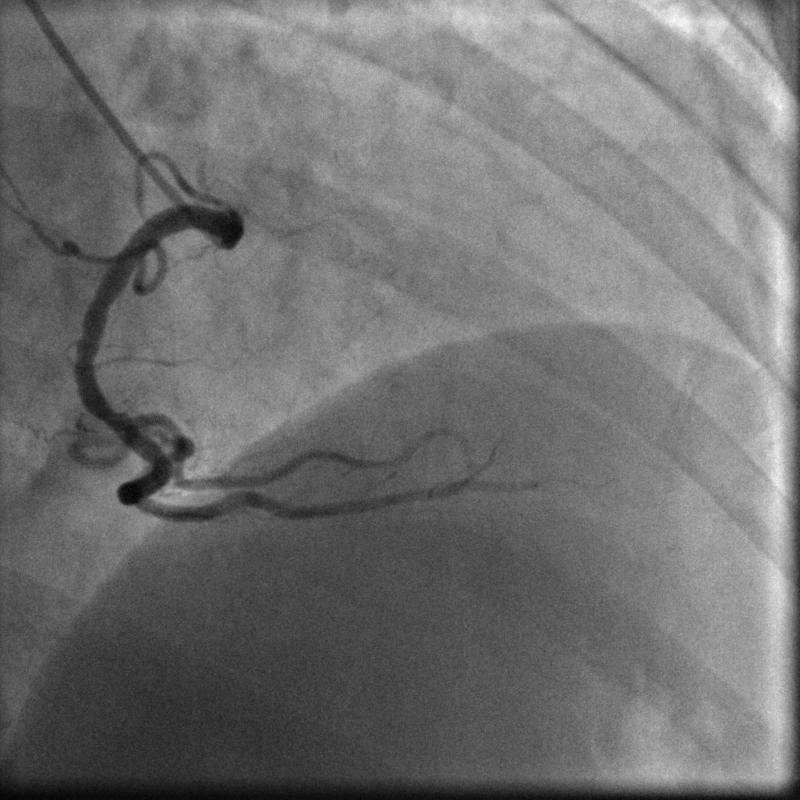Stenosis: (95, 411, 144, 439)
